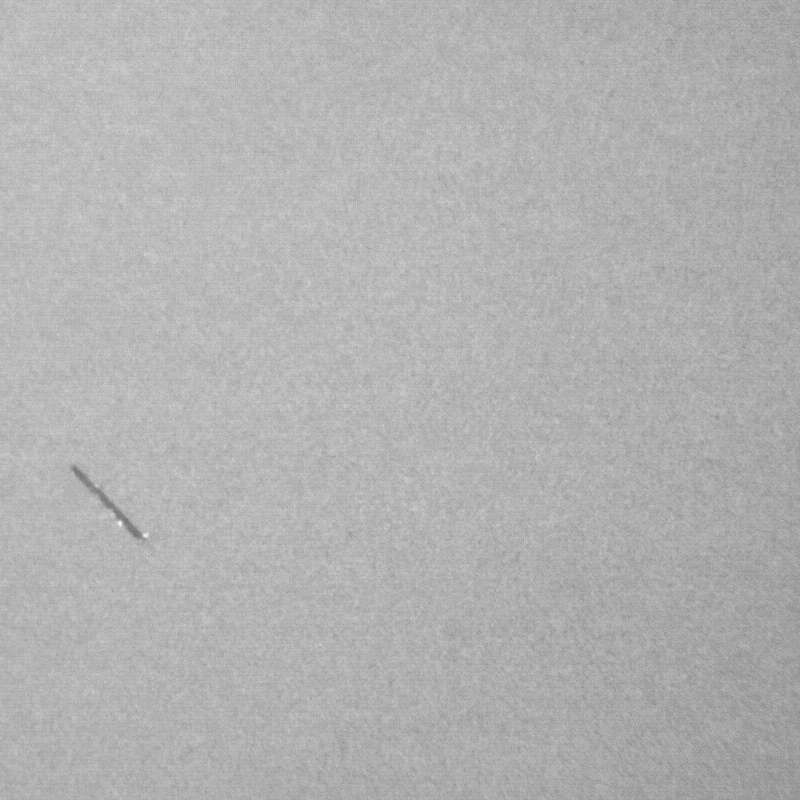defect: (79, 470, 146, 540)
